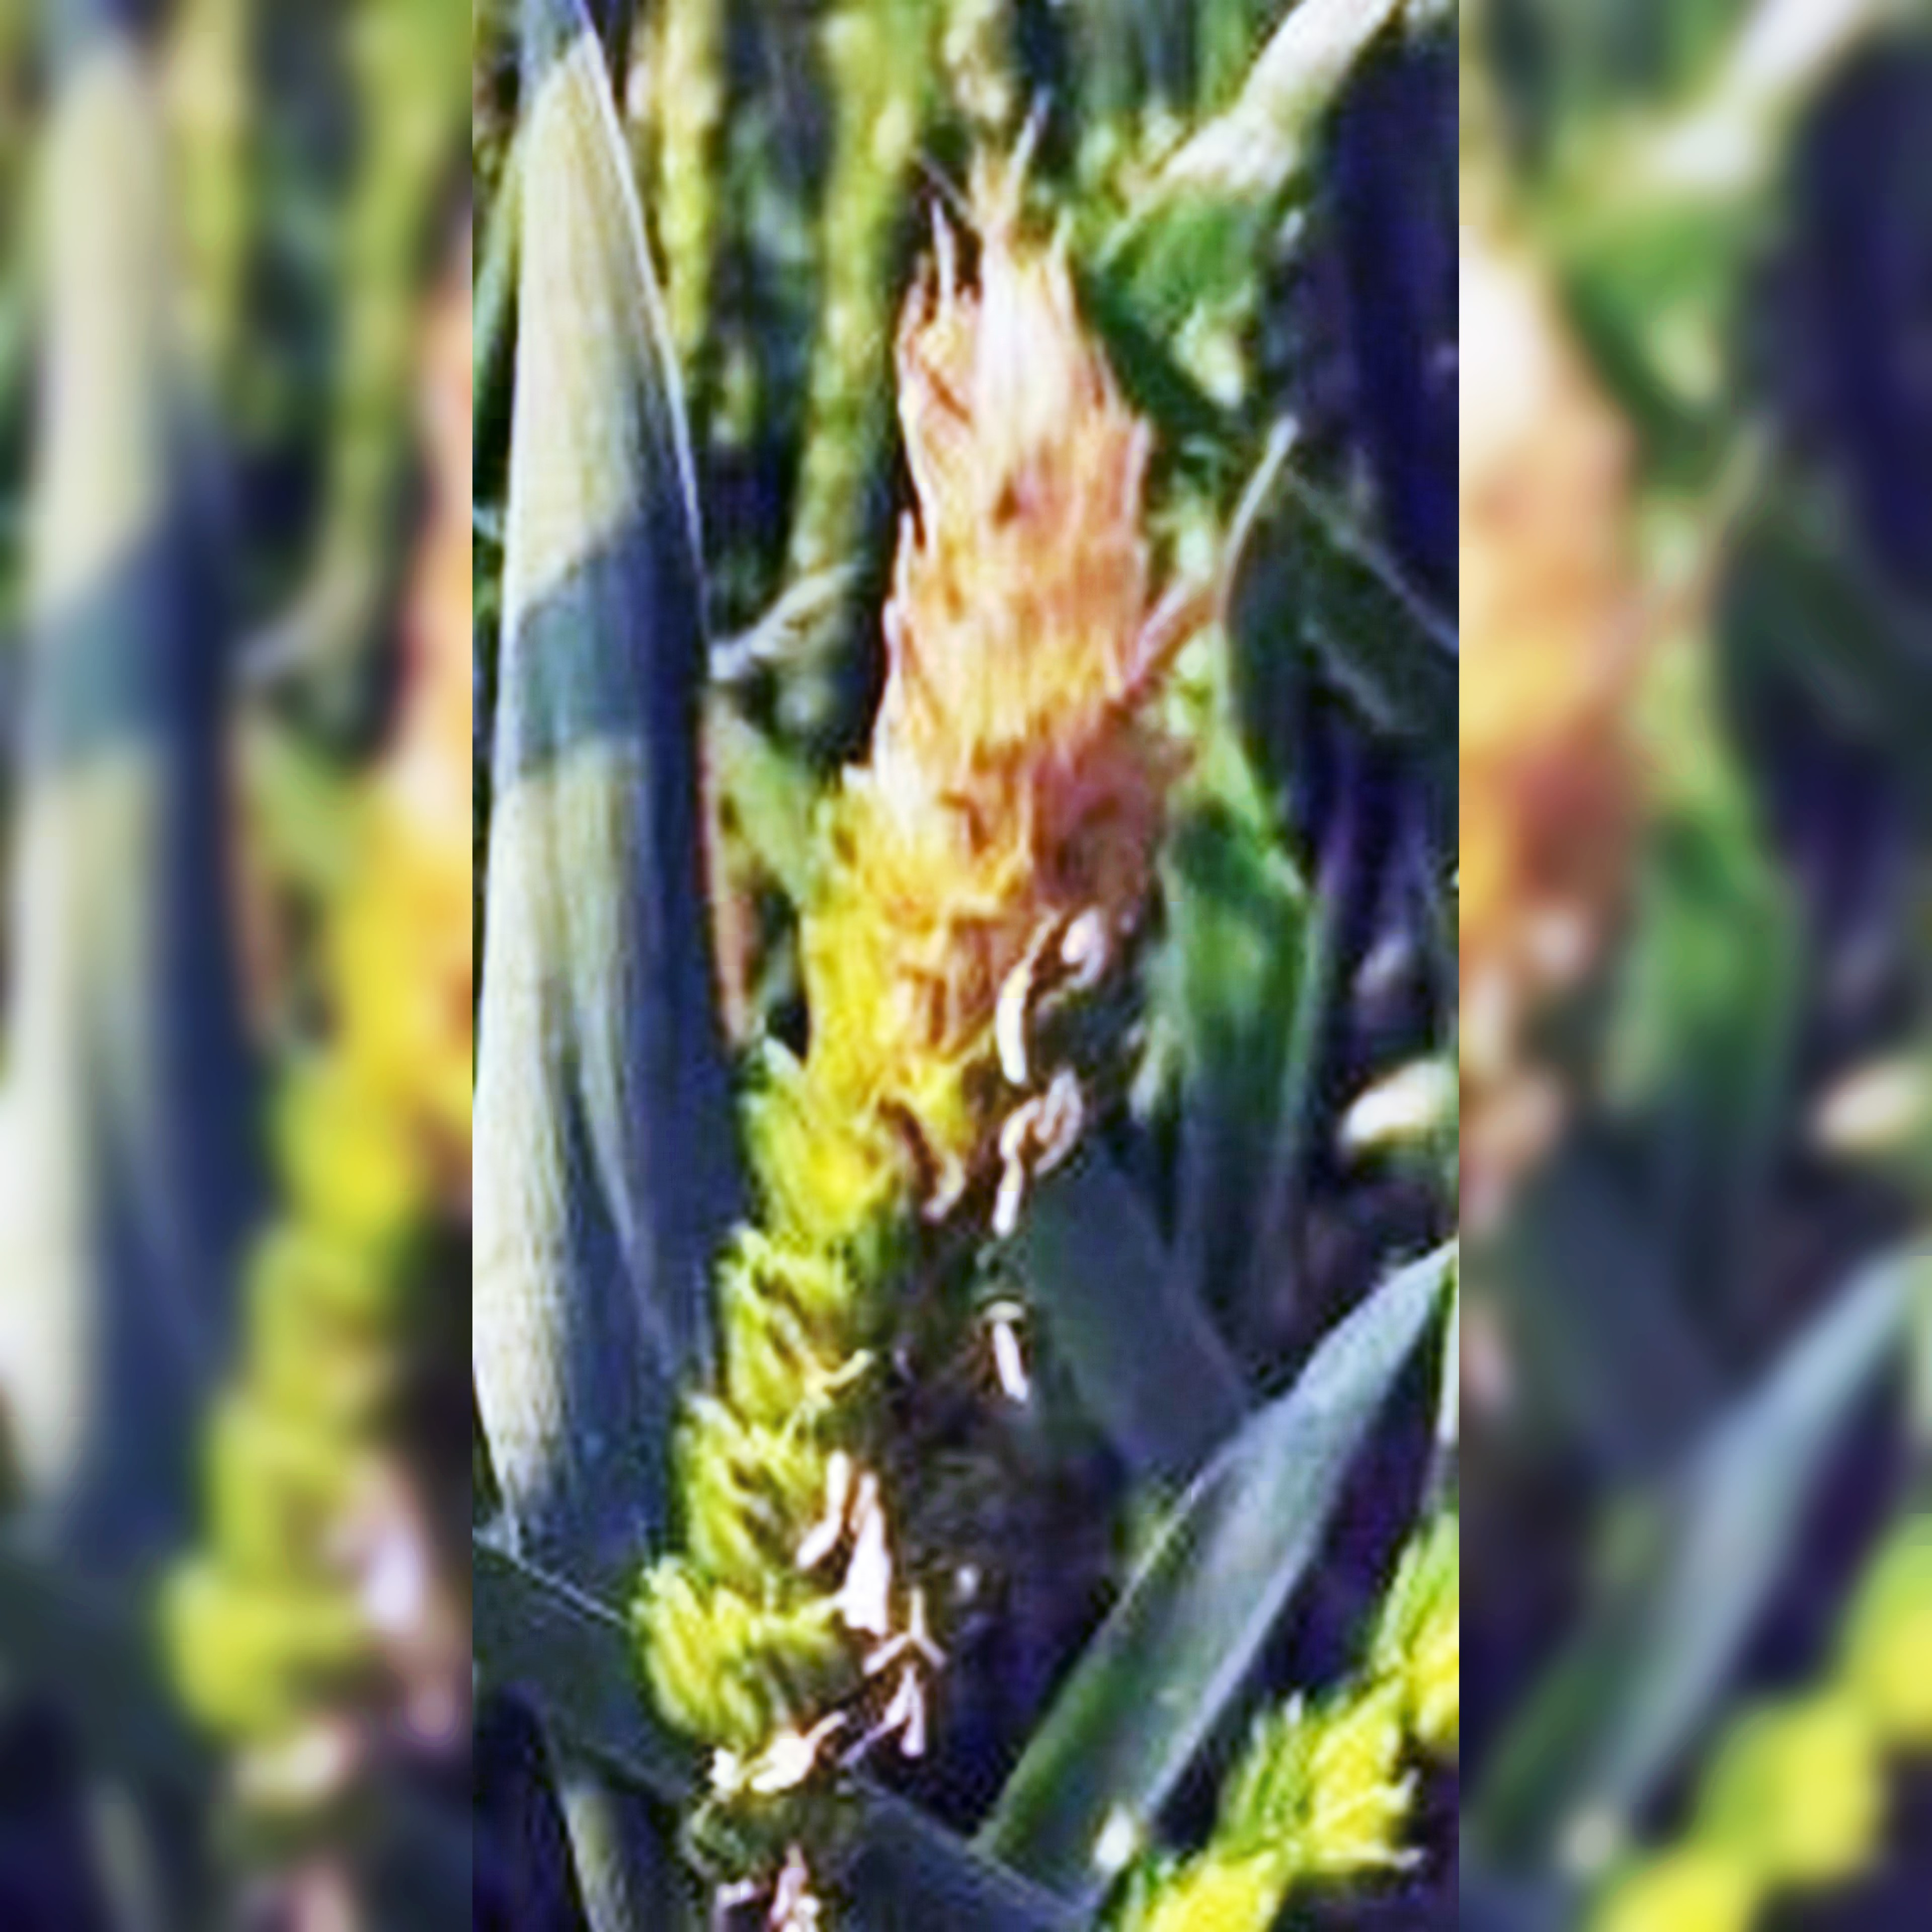Wheat scab: (718, 239, 1217, 1495)
